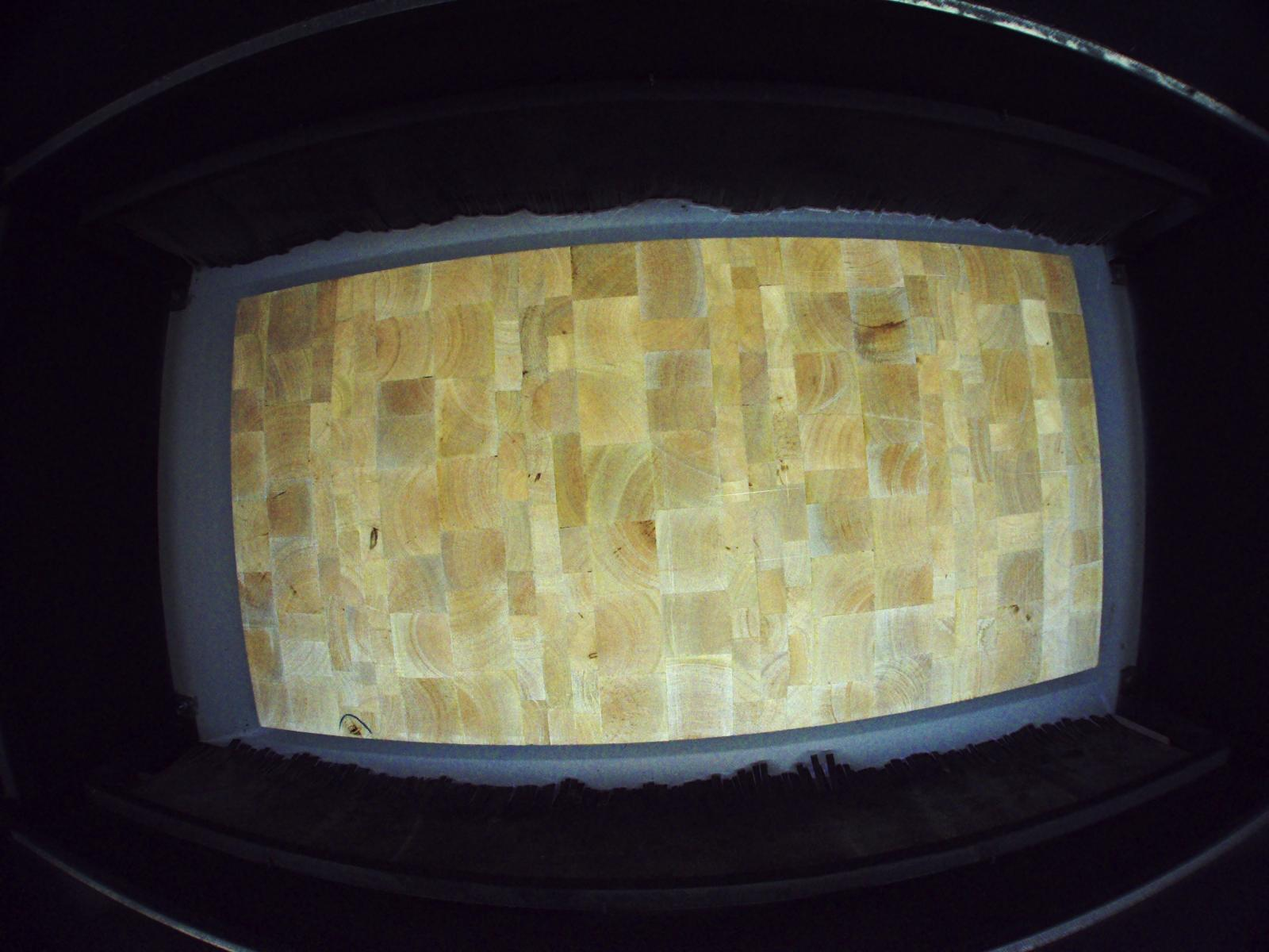nudillo: (347, 722, 363, 737)
sheck_ecuatoriano: (363, 523, 383, 551)
